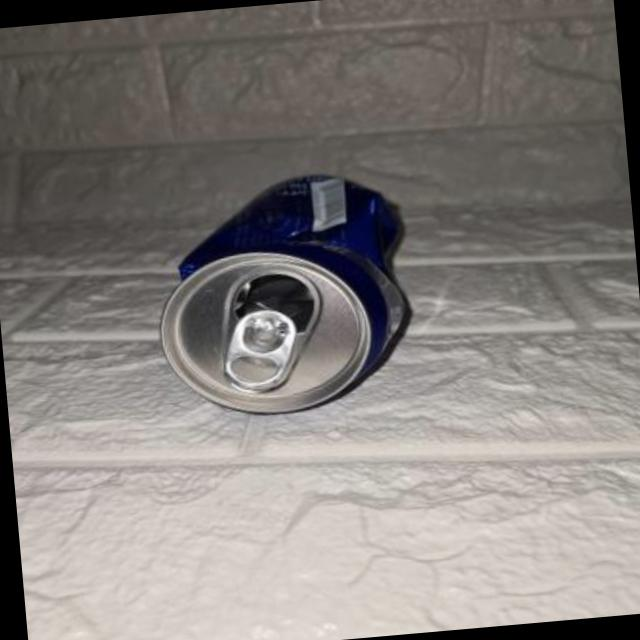metal: (157, 172, 405, 409)
